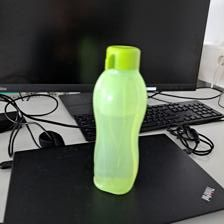bottle: (87, 42, 149, 196)
